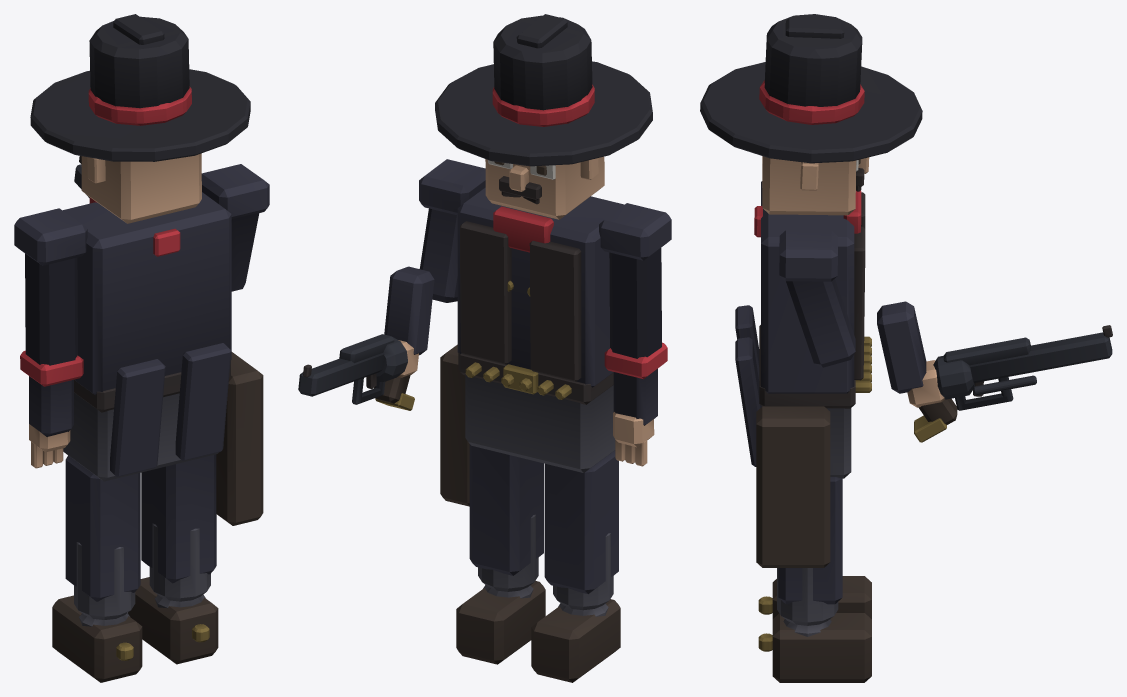
The model's file is cowboy_outlaw.glb.
3 views of the same model, side by side, from view 1: azimuth 30°, elevation 25°; view 2: azimuth 150°, elevation 25°; view 3: azimuth 270°, elevation 25° (orthographic).
Parts seen in each view (by area): view 1: O_Torso, O_Hat, O_Pelvis, O_Leg_L, O_Leg_R, O_Sleeve_L, O_Head, O_CoatTail_R, O_CoatTail_L, O_Shin_L, O_Shin_R, O_Sleeve_R (+1 smaller); view 2: O_Torso, O_Hat, O_Pelvis, O_Leg_L, O_Leg_R, O_Sleeve_L, O_Shin_L, O_Head, O_Shin_R, O_Frame, O_Fore_R, O_Sleeve_R (+1 smaller); view 3: O_Hat, O_Pelvis, O_Torso, O_Frame, O_Shin_R, O_Head, O_Leg_R, O_Fore_R, O_Sleeve_R, O_CoatTail_R, O_Shin_L, O_CoatTail_L.
Boxes of the visible parts, x1,y1,x2,y2 form: O_Torso: (14,164,269,394); O_Hat: (30,14,250,161); O_Pelvis: (63,352,263,525); O_Leg_L: (65,455,140,619); O_Leg_R: (141,454,216,601); O_Sleeve_L: (25,253,77,468); O_Head: (81,153,201,223); O_CoatTail_R: (175,343,231,460); O_CoatTail_L: (110,359,165,476); O_Shin_L: (52,595,142,682); O_Shin_R: (128,577,218,664); O_Sleeve_R: (231,213,259,291); O_Torso: (419,159,671,387); O_Hat: (435,14,652,166); O_Pelvis: (440,344,615,506); O_Leg_L: (544,450,618,610); O_Leg_R: (469,444,543,591); O_Sleeve_L: (609,248,661,466); O_Shin_L: (531,599,620,682); O_Head: (485,156,604,219); O_Shin_R: (456,581,545,664); O_Frame: (298,334,414,410); O_Fore_R: (384,266,434,377); O_Sleeve_R: (419,208,457,302); O_Hat: (700,14,922,163); O_Pelvis: (756,325,871,567); O_Torso: (754,181,865,393); O_Frame: (914,325,1112,442); O_Shin_R: (758,613,871,682); O_Head: (762,156,869,215); O_Leg_R: (777,477,842,625); O_Fore_R: (877,301,944,407); O_Sleeve_R: (786,279,855,367); O_CoatTail_R: (735,337,761,466); O_Shin_L: (758,576,871,618); O_CoatTail_L: (735,305,759,380).
Bounding box in the file's own units: 0.92 × 2.39 × 1.41.
